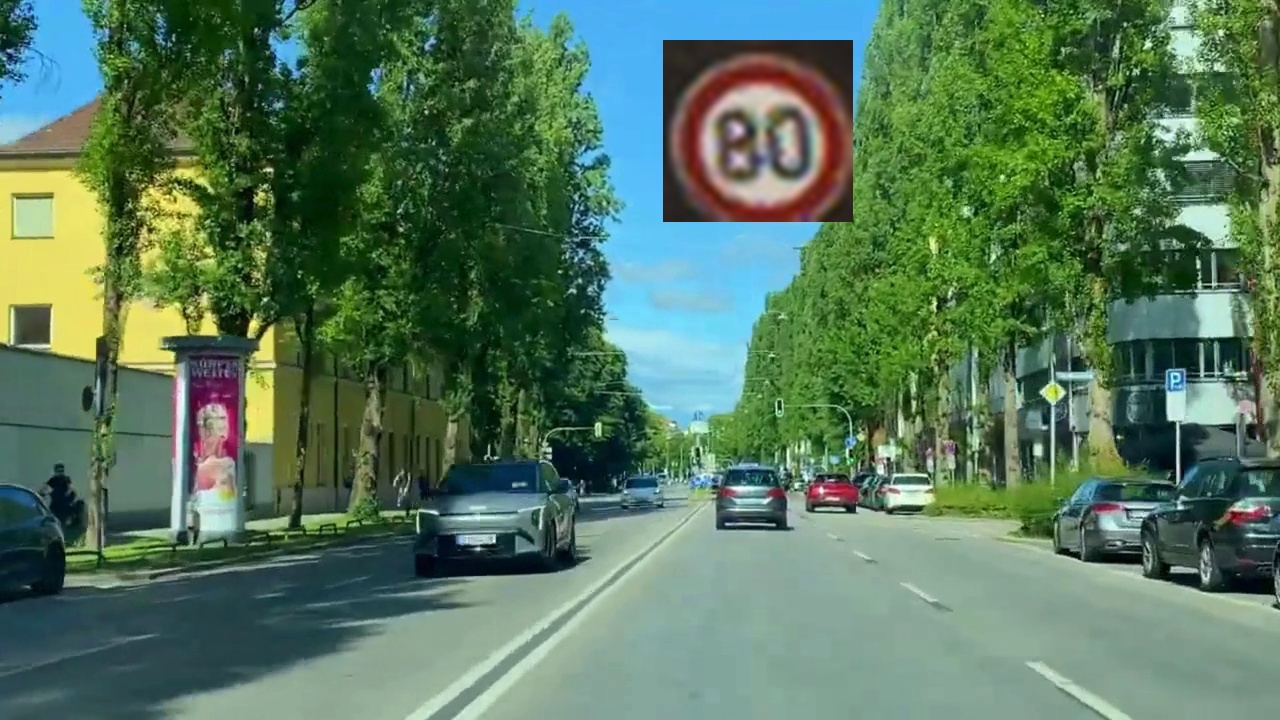Speed 80: (663, 40, 853, 222)
